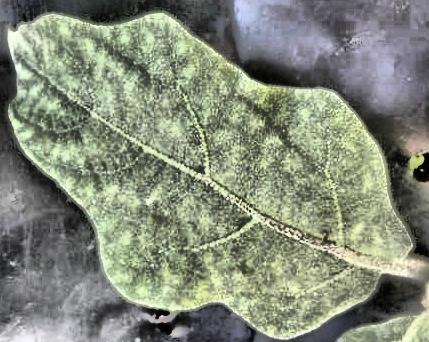HEALTHY: (1, 0, 429, 342)
